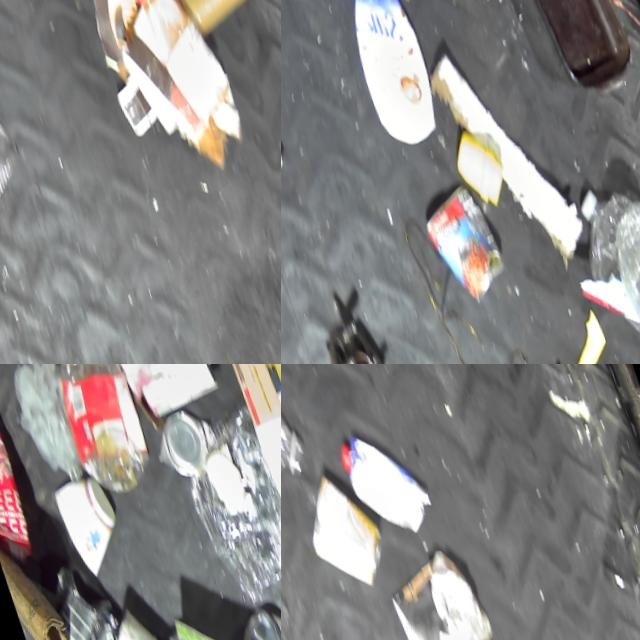can: (287, 464, 393, 608), (410, 182, 510, 318), (142, 409, 208, 490), (226, 597, 281, 640)
plastic_bottle: (558, 173, 640, 362), (0, 29, 25, 220)
